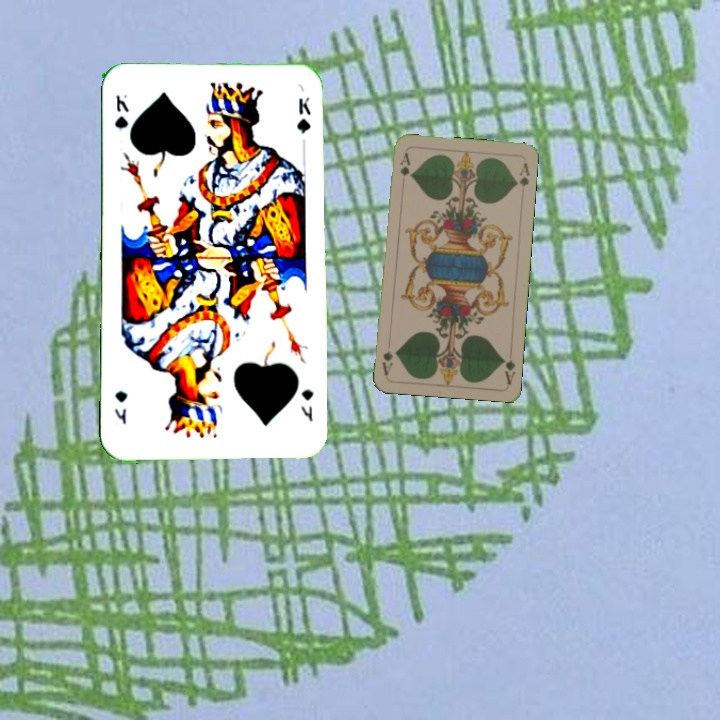GA: (396, 148, 412, 189), (499, 355, 518, 386)
GK: (111, 90, 131, 134), (297, 385, 316, 424)
